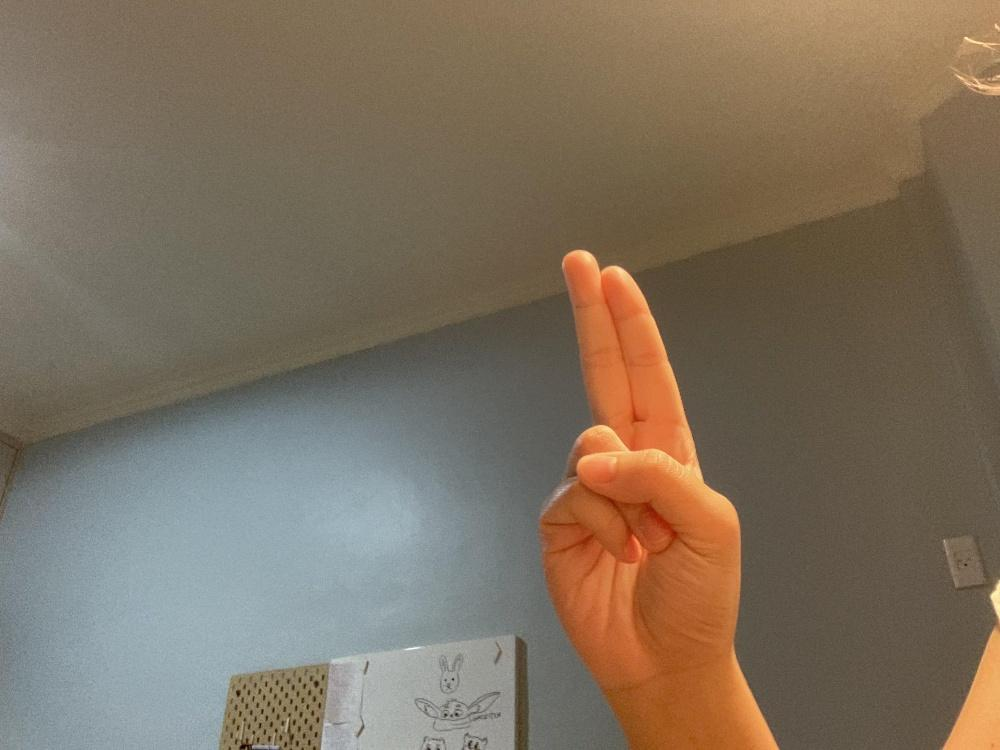u: (536, 246, 741, 689)
